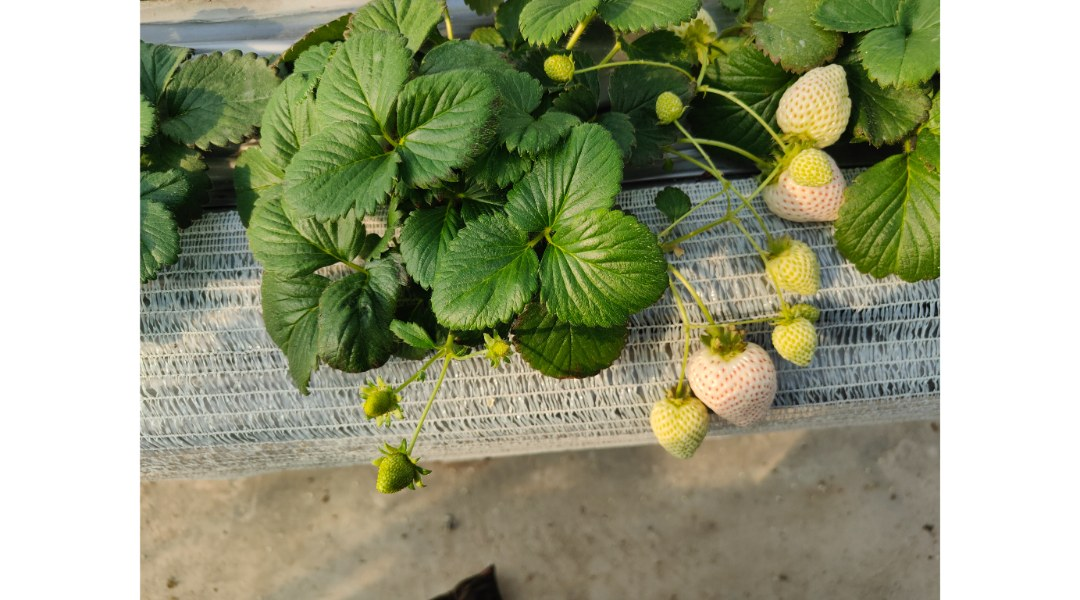berry: (698, 322, 780, 440), (768, 56, 856, 153), (759, 146, 848, 224), (642, 381, 707, 468), (762, 235, 831, 293), (370, 439, 427, 504), (780, 305, 836, 369), (535, 47, 582, 89), (359, 383, 400, 424), (650, 85, 693, 121)
strain: (387, 348, 441, 398), (418, 360, 445, 444), (673, 268, 716, 318), (709, 84, 765, 121), (670, 219, 721, 250), (706, 131, 754, 158), (664, 192, 704, 224), (662, 282, 682, 324), (750, 171, 775, 197), (677, 333, 687, 392), (738, 225, 758, 243)
